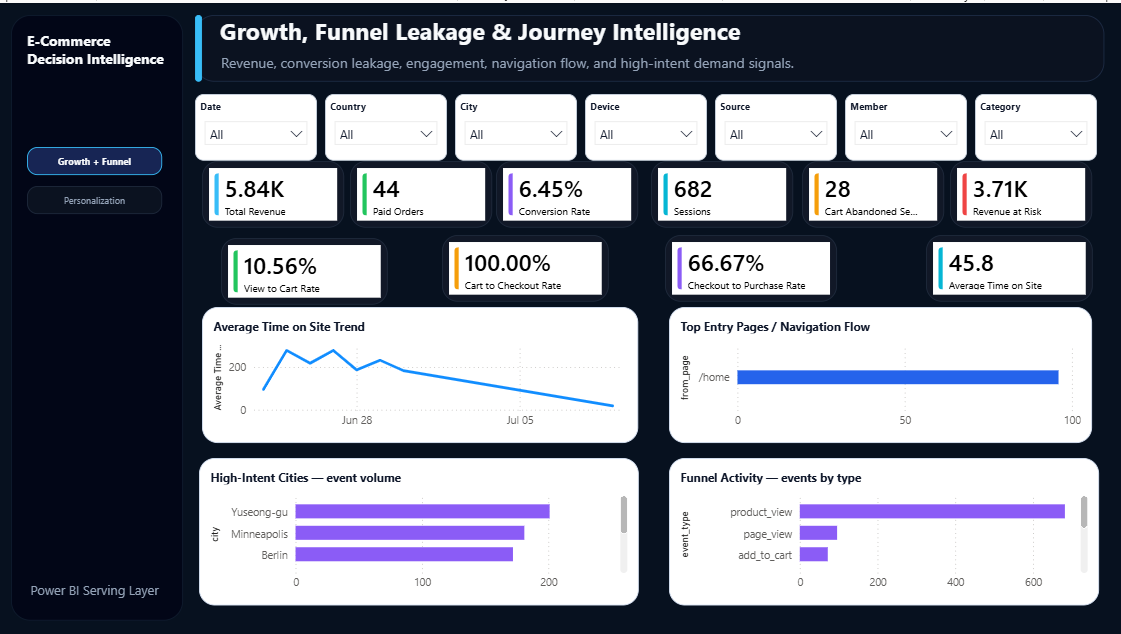

The page's visual inventory and layout, read from the dashboard file:
{"tool":"powerbi","page":{"name":"01 Growth & Funnel Command Center","canvas":[1280,720],"ordinal":0},"visuals":[{"type":"textbox","box":[16,14,196,690],"z":0},{"type":"textbox","box":[226,14,1036,76],"z":1000},{"type":"textbox","box":[226,14,8,76],"z":2000},{"type":"textbox","box":[34,32,160,50],"z":3000},{"type":"textbox","box":[34,164,154,32],"z":5000},{"type":"textbox","box":[34,208,154,32],"z":6000},{"type":"textbox","box":[34,658,154,28],"z":11000},{"type":"textbox","box":[254,14,744,52],"z":12000},{"type":"textbox","box":[255,57,760,33],"z":13000},{"type":"slicer","title":"Date","fields":{"Values":["Dim Date.activity_date"]},"box":[226,104,139,76],"z":15000},{"type":"slicer","title":"Country","fields":{"Values":["Dim User.country_code"]},"box":[374,104,139,76],"z":16000},{"type":"slicer","title":"City","fields":{"Values":["Dim User.city"]},"box":[522,104,139,76],"z":17000},{"type":"slicer","title":"Device","fields":{"Values":["Fact Clickstream.device_type"]},"box":[670,104,139,76],"z":18000},{"type":"slicer","title":"Source","fields":{"Values":["Fact Clickstream.traffic_source"]},"box":[818,104,139,76],"z":19000},{"type":"slicer","title":"Member","fields":{"Values":["Dim User.membership_type"]},"box":[966,104,139,76],"z":20000},{"type":"slicer","title":"Category","fields":{"Values":["Dim Product.category"]},"box":[1114,104,139,76],"z":21000},{"type":"cardVisual","fields":{"Data":["Fact Order.Total Revenue"]},"box":[234,180,162,76],"z":22000},{"type":"cardVisual","fields":{"Data":["Fact Order.Paid Orders"]},"box":[402,180,162,76],"z":23000},{"type":"cardVisual","fields":{"Data":["Fact Order.Conversion Rate"]},"box":[569,180,162,76],"z":24000},{"type":"cardVisual","fields":{"Data":["Fact Clickstream.Sessions"]},"box":[745,180,162,76],"z":25000},{"type":"cardVisual","fields":{"Data":["Mart Journey Session.Cart Abandoned Sessions"]},"box":[917,180,162,76],"z":26000},{"type":"cardVisual","fields":{"Data":["Fact Clickstream.Revenue at Risk"]},"box":[1086,180,162,76],"z":27000},{"type":"cardVisual","fields":{"Data":["Fact Clickstream.View to Cart Rate"]},"box":[255,268,190,76],"z":28000},{"type":"cardVisual","fields":{"Data":["Fact Clickstream.Cart to Checkout Rate"]},"box":[507,264,190,76],"z":29000},{"type":"cardVisual","fields":{"Data":["Fact Clickstream.Checkout to Purchase Rate"]},"box":[761,264,196,76],"z":30000},{"type":"cardVisual","fields":{"Data":["Mart Journey Session.Average Time on Site"]},"box":[1058,264,190,76],"z":31000},{"type":"lineChart","title":"Average Time on Site Trend","fields":{"Category":["Mart Journey Session.activity_date"],"Y":["Mart Journey Session.Average Time on Site"]},"box":[234,346,497,155],"z":36000},{"type":"barChart","title":"Top Entry Pages / Navigation Flow","fields":{"Category":["Mart Navigation Paths.from_page"],"Y":["Sum(Mart Navigation Paths.transition_count)"]},"box":[766,346,482,155],"z":37000},{"type":"barChart","title":"High-Intent Cities — event volume","fields":{"Category":["Mart Journey Session.city"],"Y":["Sum(Mart Journey Session.event_count)"]},"box":[230,518,501,168],"z":38000},{"type":"barChart","title":"Funnel Activity — events by type","fields":{"Category":["Fact Clickstream.event_type"],"Y":["Fact Clickstream.Events"]},"box":[766,518,490,168],"z":39000}]}

Visuals, with their boxes in screenshot pixels (x1, y1, x2, y2):
textbox: (20, 21, 189, 617)
textbox: (201, 21, 1096, 86)
textbox: (201, 21, 208, 86)
textbox: (35, 36, 173, 80)
textbox: (35, 150, 168, 178)
textbox: (35, 188, 168, 216)
textbox: (35, 577, 168, 601)
textbox: (225, 21, 868, 66)
textbox: (226, 58, 882, 86)
"Date" slicer: (201, 99, 321, 164)
"Country" slicer: (329, 99, 449, 164)
"City" slicer: (457, 99, 577, 164)
"Device" slicer: (584, 99, 705, 164)
"Source" slicer: (712, 99, 832, 164)
"Member" slicer: (840, 99, 960, 164)
"Category" slicer: (968, 99, 1088, 164)
cardVisual - Fact Order.Total Revenue: (208, 164, 348, 230)
cardVisual - Fact Order.Paid Orders: (353, 164, 493, 230)
cardVisual - Fact Order.Conversion Rate: (497, 164, 637, 230)
cardVisual - Fact Clickstream.Sessions: (649, 164, 789, 230)
cardVisual - Mart Journey Session.Cart Abandoned Sessions: (798, 164, 938, 230)
cardVisual - Fact Clickstream.Revenue at Risk: (944, 164, 1084, 230)
cardVisual - Fact Clickstream.View to Cart Rate: (226, 240, 390, 306)
cardVisual - Fact Clickstream.Cart to Checkout Rate: (444, 237, 608, 302)
cardVisual - Fact Clickstream.Checkout to Purchase Rate: (663, 237, 832, 302)
cardVisual - Mart Journey Session.Average Time on Site: (920, 237, 1084, 302)
"Average Time on Site Trend" lineChart: (208, 308, 637, 441)
"Top Entry Pages / Navigation Flow" barChart: (667, 308, 1084, 441)
"High-Intent Cities — event volume" barChart: (204, 456, 637, 601)
"Funnel Activity — events by type" barChart: (667, 456, 1091, 601)
